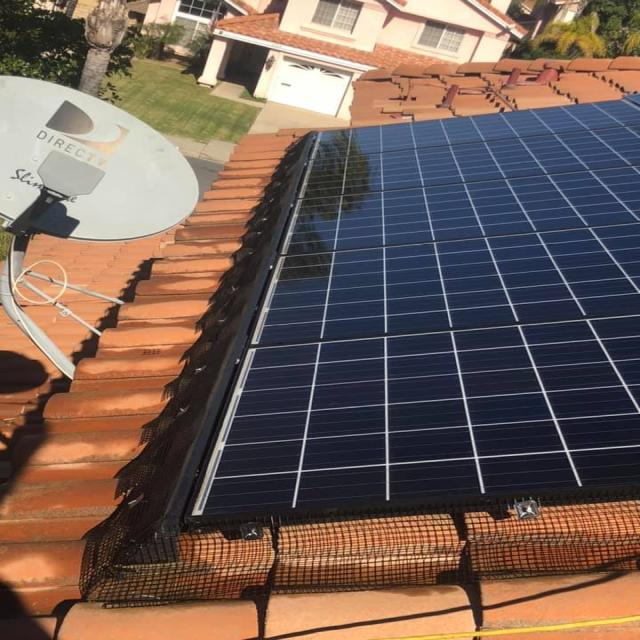clean-solar-panel: (202, 101, 638, 512)
